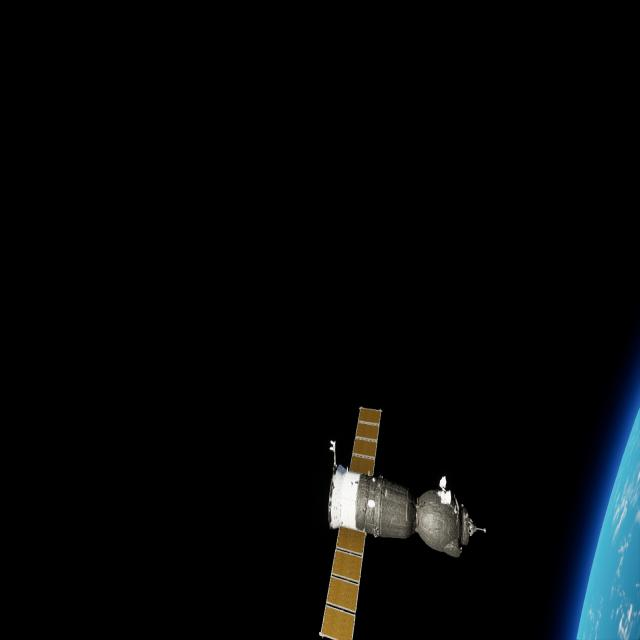Satellites revolving around earth: (317, 403, 487, 638)
